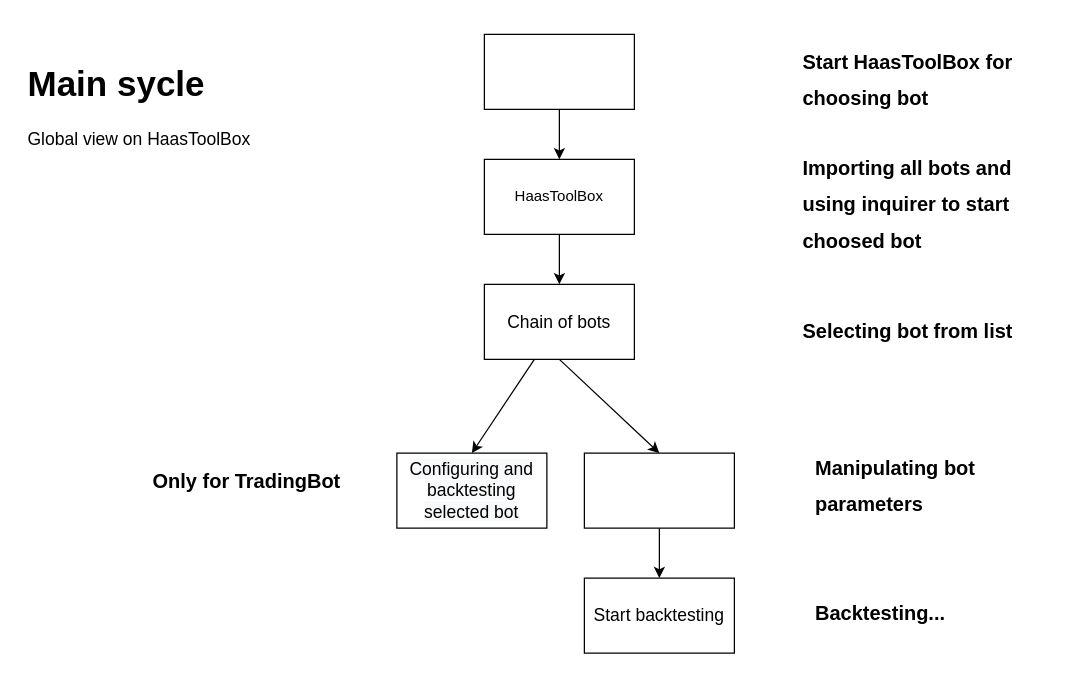
This 1068x675 diagram has some shape labels left out. Each missing label, with the centre of its shape:
"Configuring selected bot" goes at point 658,490.
"start_app" goes at point 558,71.
